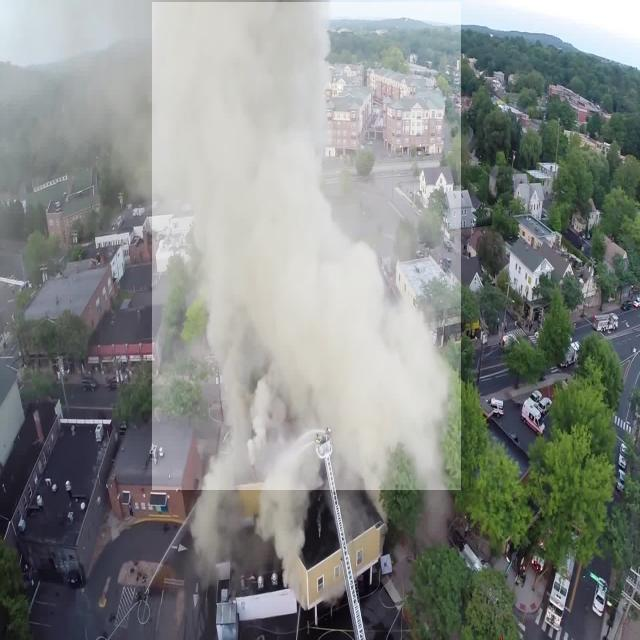Smoke: (152, 2, 461, 490)
